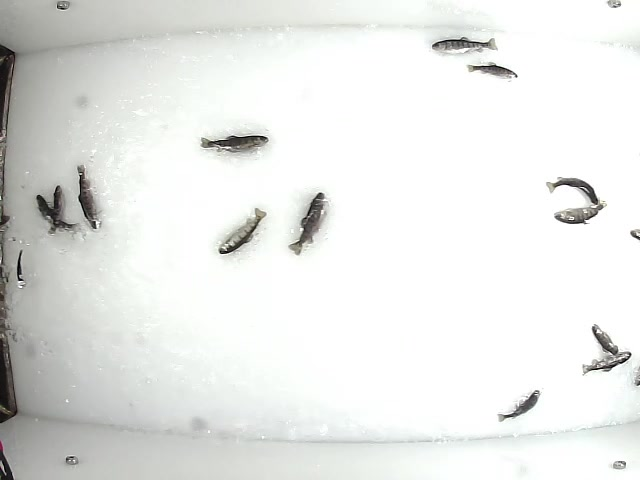fish: (287, 190, 329, 258), (215, 204, 268, 254), (75, 161, 104, 230), (36, 193, 82, 234), (546, 176, 601, 210), (198, 133, 270, 158), (551, 195, 607, 227), (430, 37, 500, 58), (44, 181, 66, 236), (464, 61, 521, 81), (14, 247, 27, 289)
